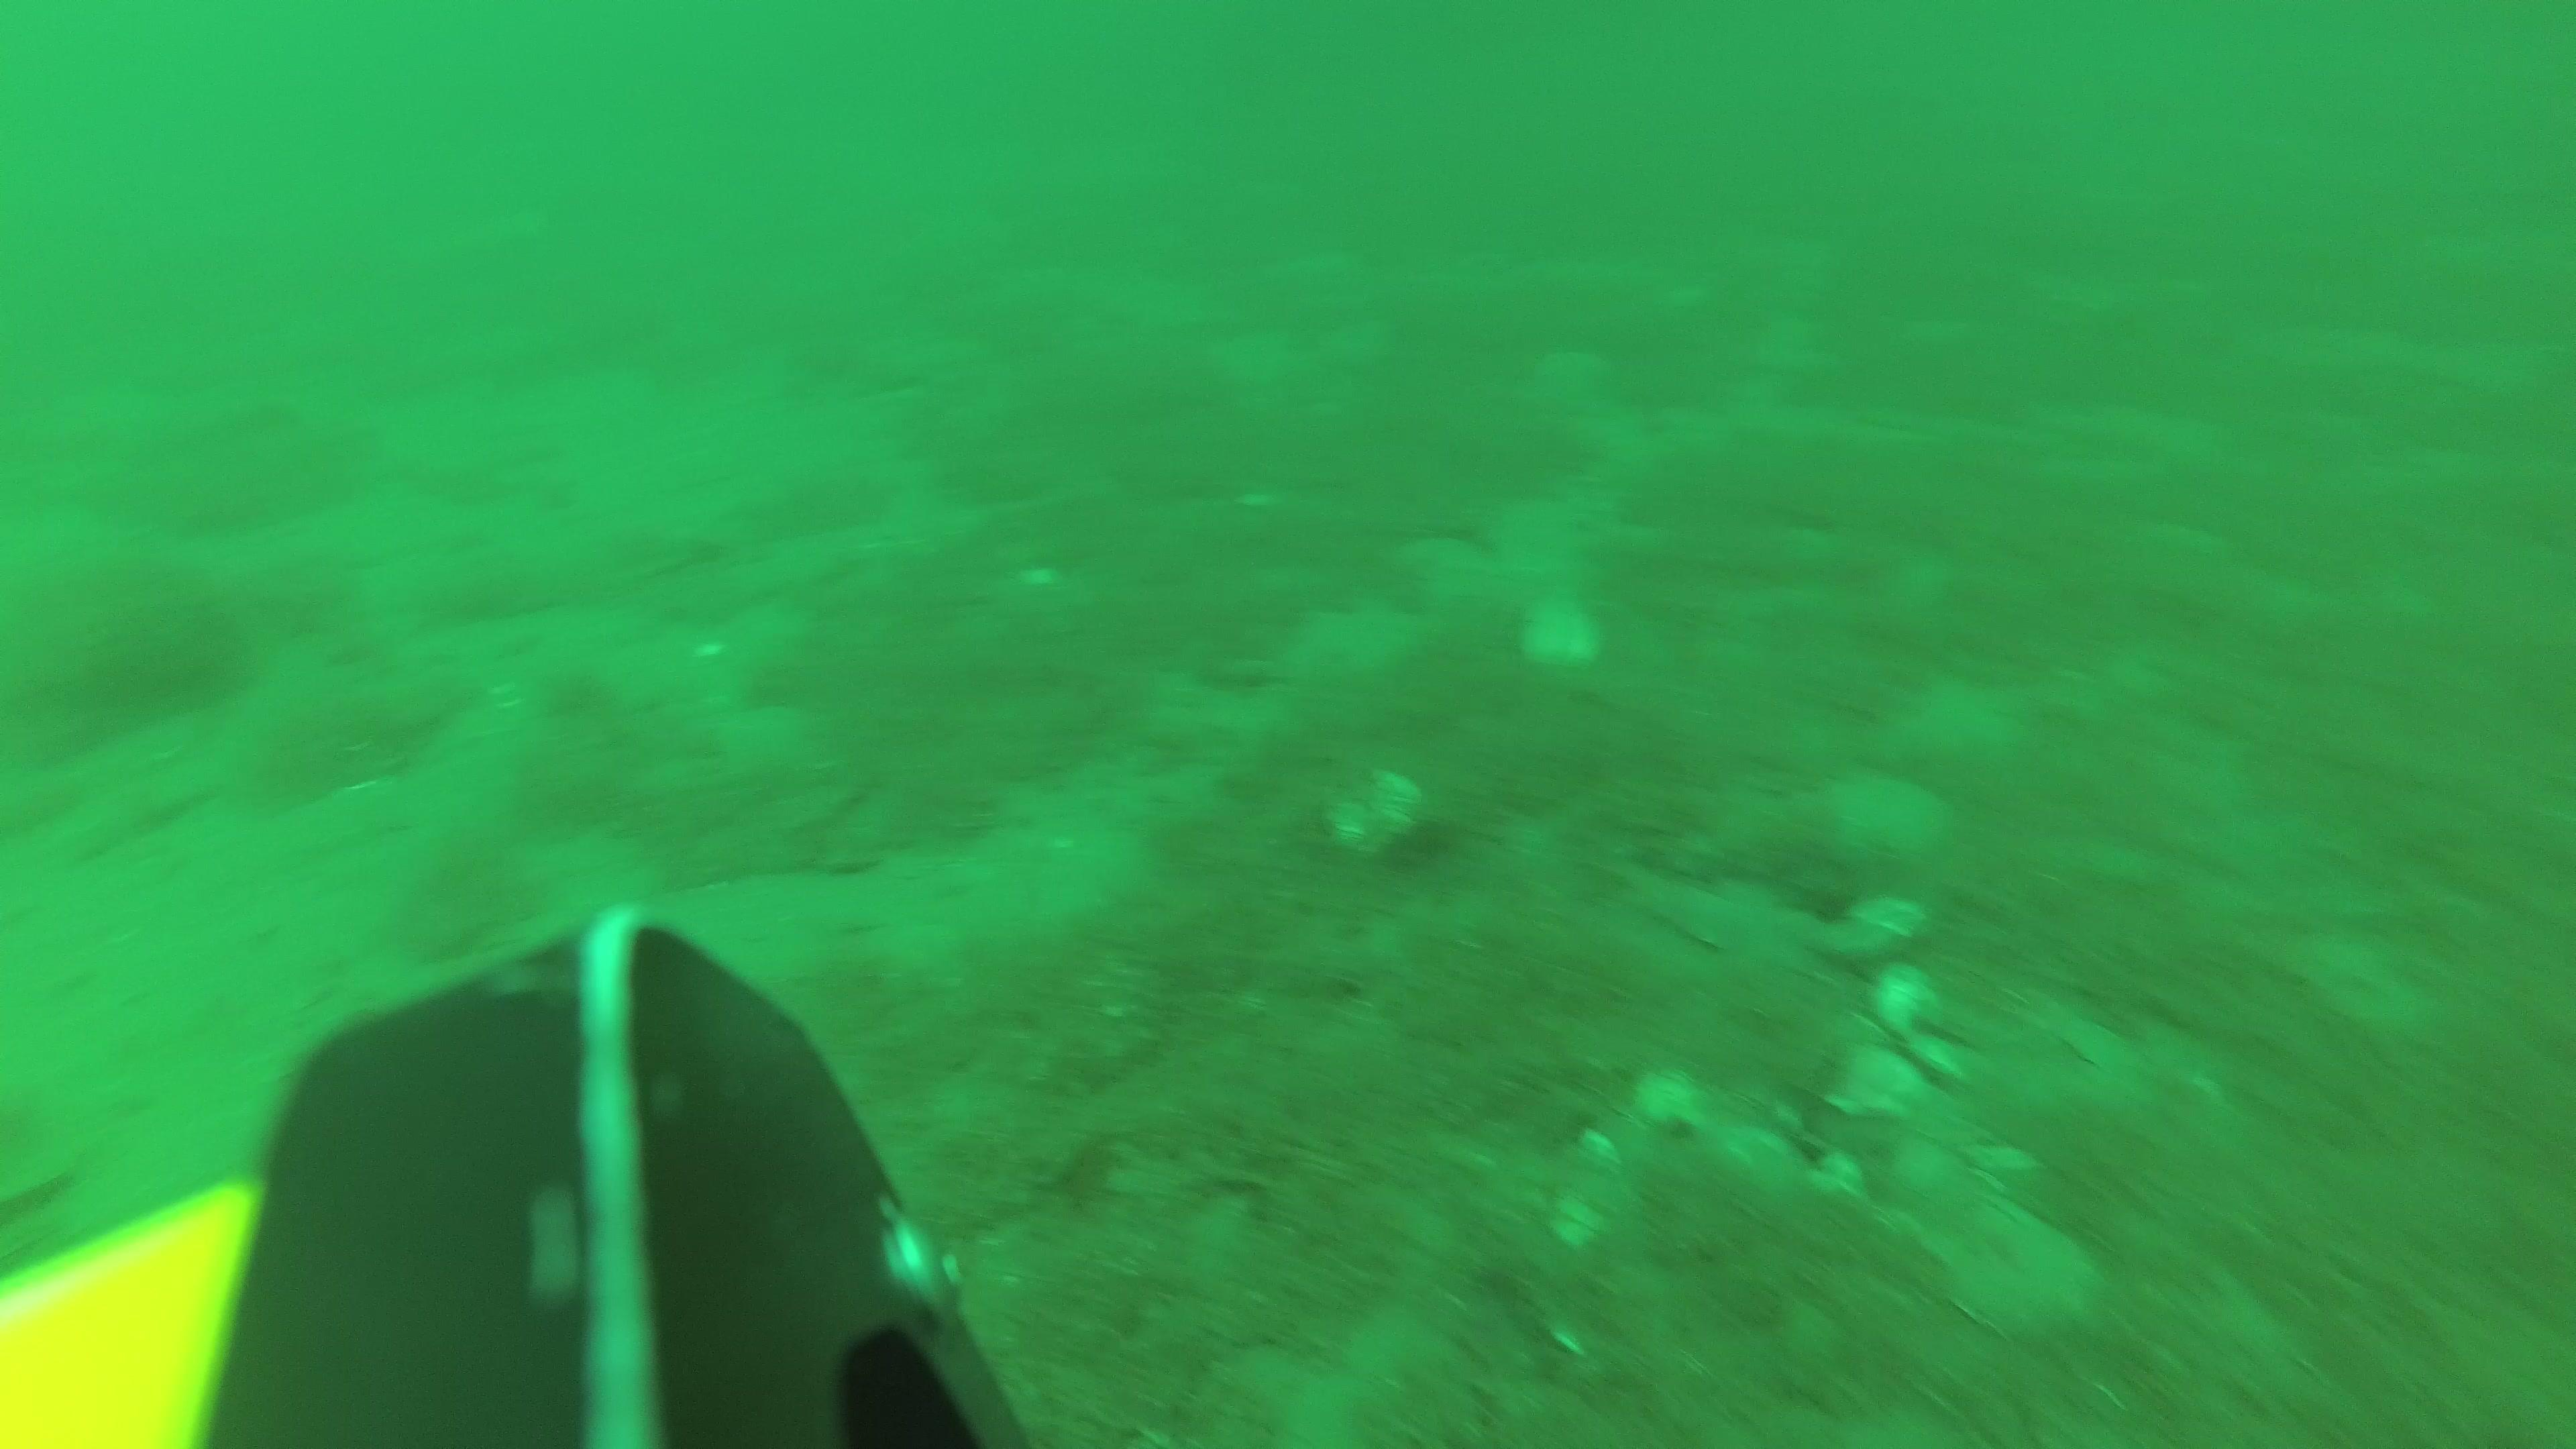scallop: (1964, 1221, 2097, 1339), (1322, 766, 1419, 858), (1819, 1049, 1916, 1116), (1867, 959, 1937, 1042), (1527, 603, 1599, 667)
